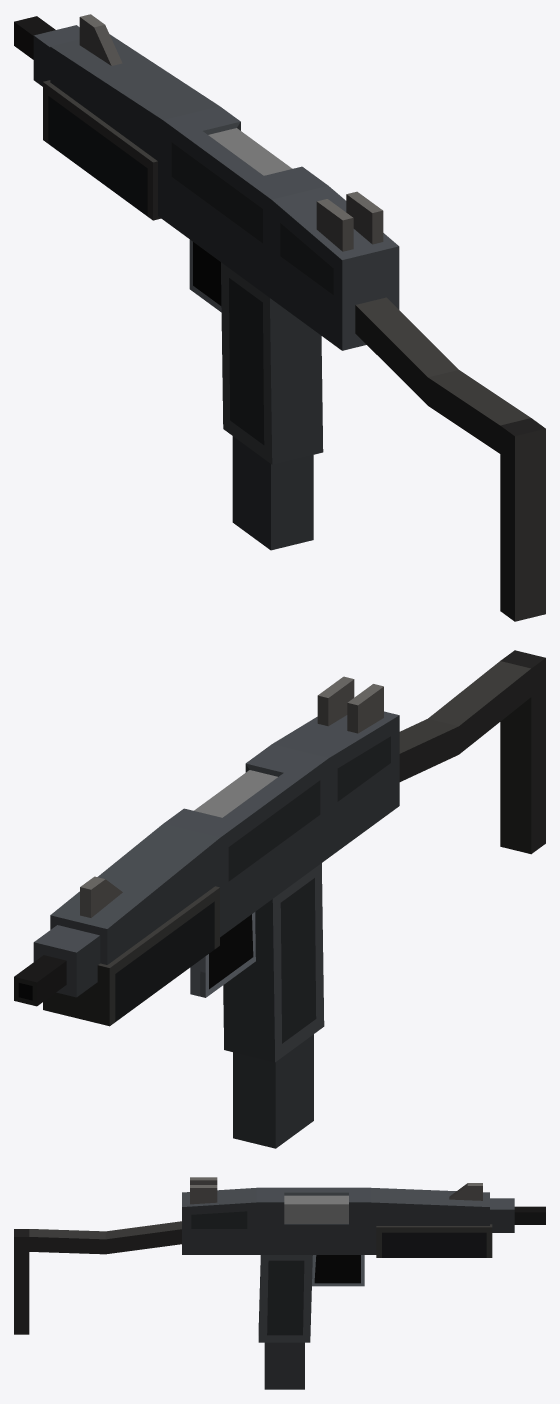
Rendered from Wep_UZI.fbx.
The picture shows the model from 3 angles, top to bottom: view 1: azimuth 30°, elevation 25°; view 2: azimuth 150°, elevation 25°; view 3: azimuth 270°, elevation 25°; orthographic projection. The views are drawn at different scales.
Visible parts, largest first — view 1: Wep_UZI; view 2: Wep_UZI; view 3: Wep_UZI.
Boxes of the visible parts, x1=… form: Wep_UZI: x1=14, y1=14, x2=545, y2=621; Wep_UZI: x1=14, y1=650, x2=545, y2=1148; Wep_UZI: x1=14, y1=1177, x2=545, y2=1389.
Size of the model in its own units: 15.74 by 85.92 by 206.
